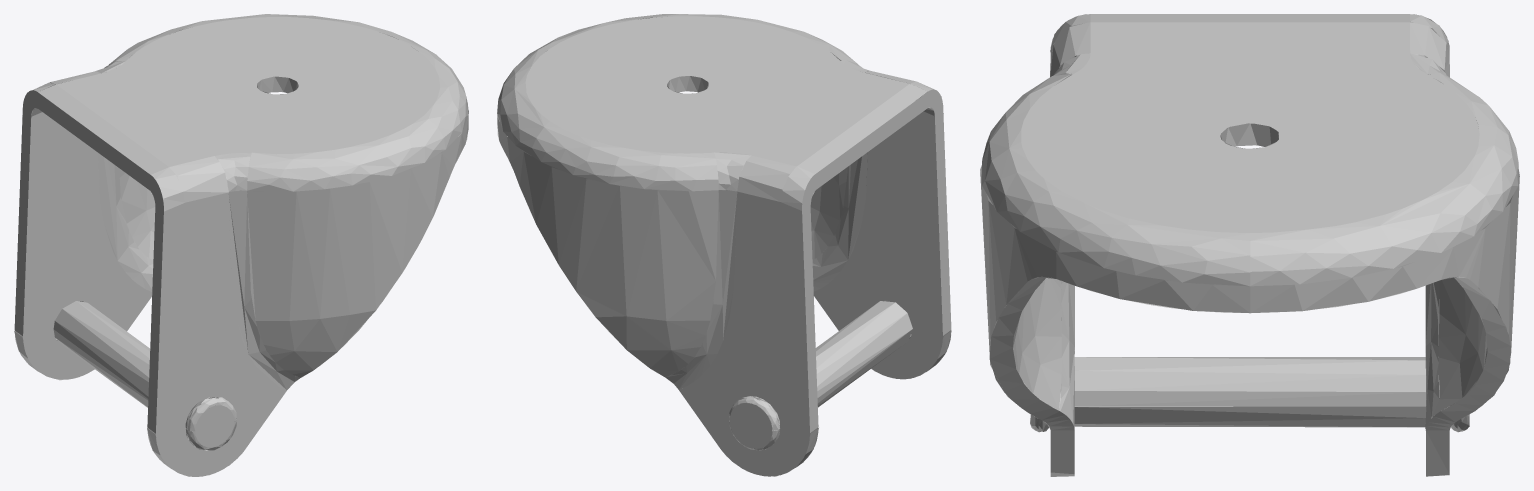
The model's file is caster_wheel_rotate.dae.
3 views of the same model, side by side, from view 1: azimuth 30°, elevation 25°; view 2: azimuth 150°, elevation 25°; view 3: azimuth 270°, elevation 25° (orthographic). The views are drawn at different scales.
Visible parts, largest first — view 1: caster_wheel_rotate; view 2: caster_wheel_rotate; view 3: caster_wheel_rotate.
Part boxes in pixels (left/top/right/bottom): caster_wheel_rotate: left=14, top=14, right=468, bottom=476; caster_wheel_rotate: left=497, top=14, right=951, bottom=476; caster_wheel_rotate: left=980, top=14, right=1519, bottom=476.
Size of the model in its own units: 0.0293 by 0.027 by 0.0238.
1 material, 1 textured.
